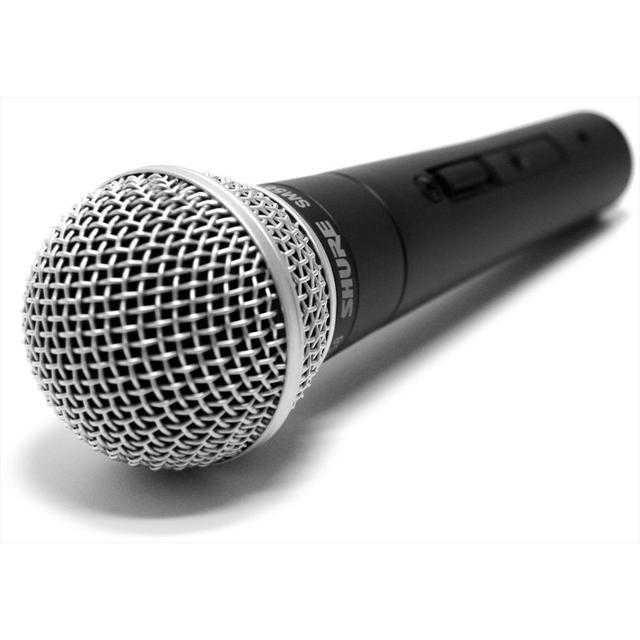microphone: (23, 109, 621, 474)
